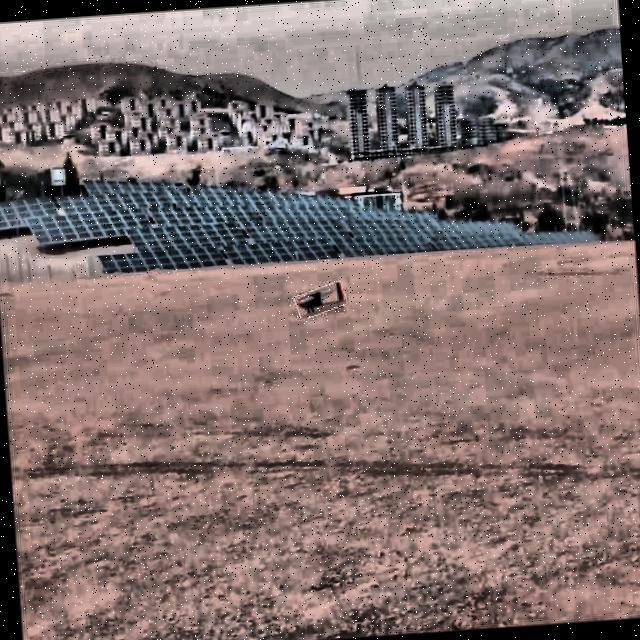iha: (315, 280, 319, 334)
